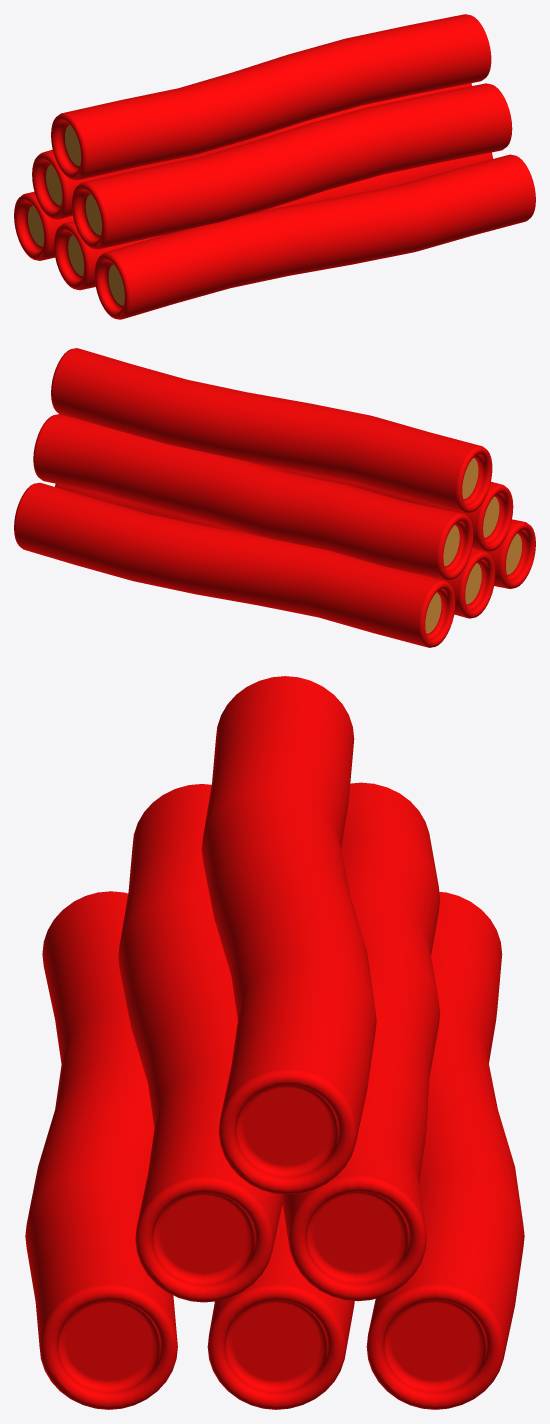
The model's file is Carpet.fbx.
3 views of the same model, one above another, from view 1: azimuth 30°, elevation 25°; view 2: azimuth 150°, elevation 25°; view 3: azimuth 270°, elevation 25° (orthographic). The views are drawn at different scales.
Parts seen in each view (by area): view 1: witch's house.015; view 2: witch's house.015; view 3: witch's house.015.
Part boxes in pixels (x1,y1,x2,y2): witch's house.015: [14, 14, 535, 319]; witch's house.015: [14, 348, 535, 647]; witch's house.015: [25, 676, 524, 1409].
Bounding box in the file's own units: 123 × 48.77 × 64.8.
2 materials, 1 textured.
